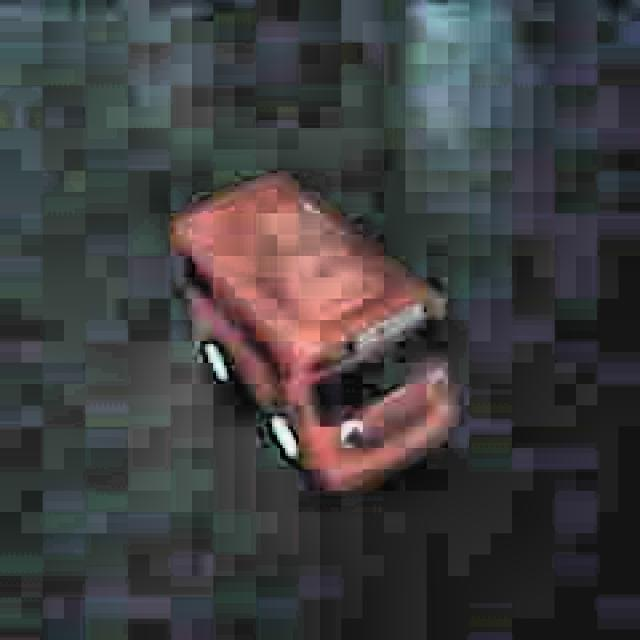bus: (156, 150, 470, 512)
